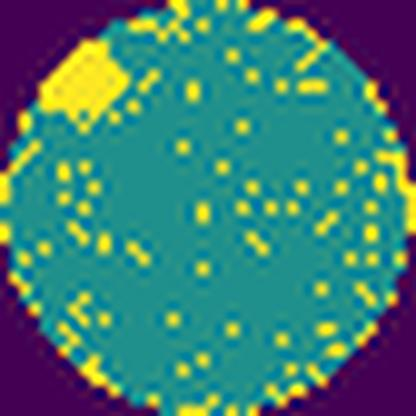Edge-Loc: (33, 45, 126, 130)
